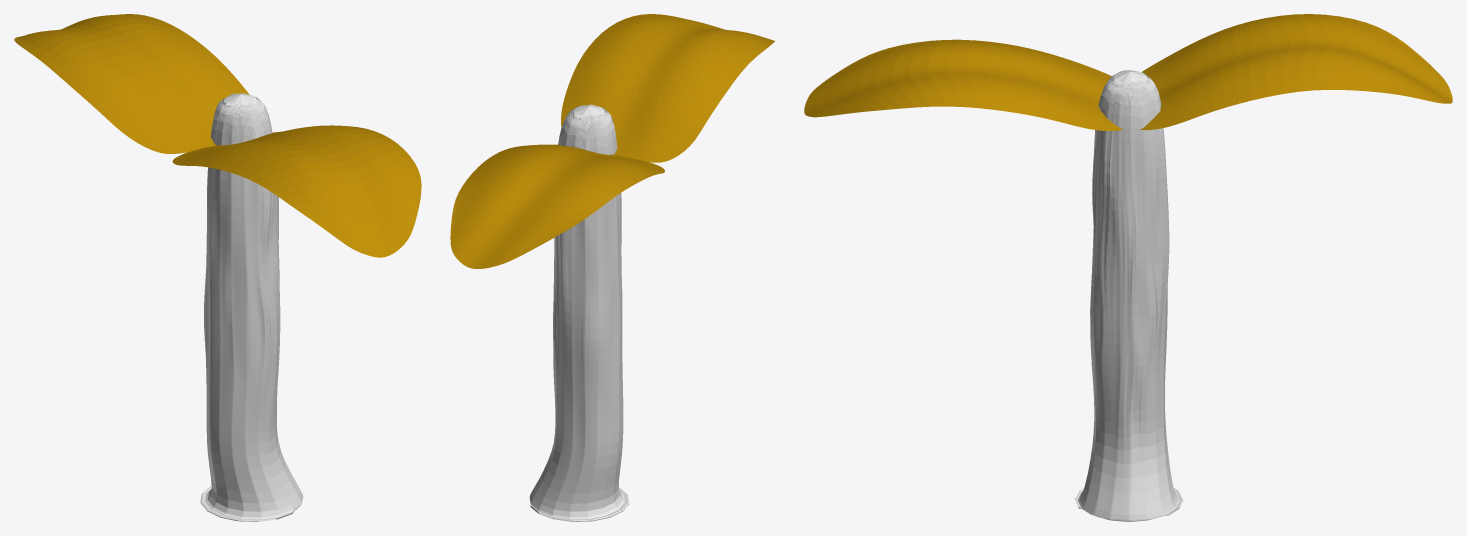
The model's file is Sprout_died.fbx.
3 views of the same model, side by side, from view 1: azimuth 30°, elevation 25°; view 2: azimuth 150°, elevation 25°; view 3: azimuth 270°, elevation 25° (orthographic). The views are drawn at different scales.
Visible parts, largest first — view 1: Cylinder; view 2: Cylinder; view 3: Cylinder.
Boxes of the visible parts, left/top/right/bottom form: Cylinder: left=14, top=14, right=421, bottom=521; Cylinder: left=450, top=14, right=775, bottom=521; Cylinder: left=804, top=14, right=1452, bottom=521.
Size of the model in its own units: 592 by 1290 by 1753.
